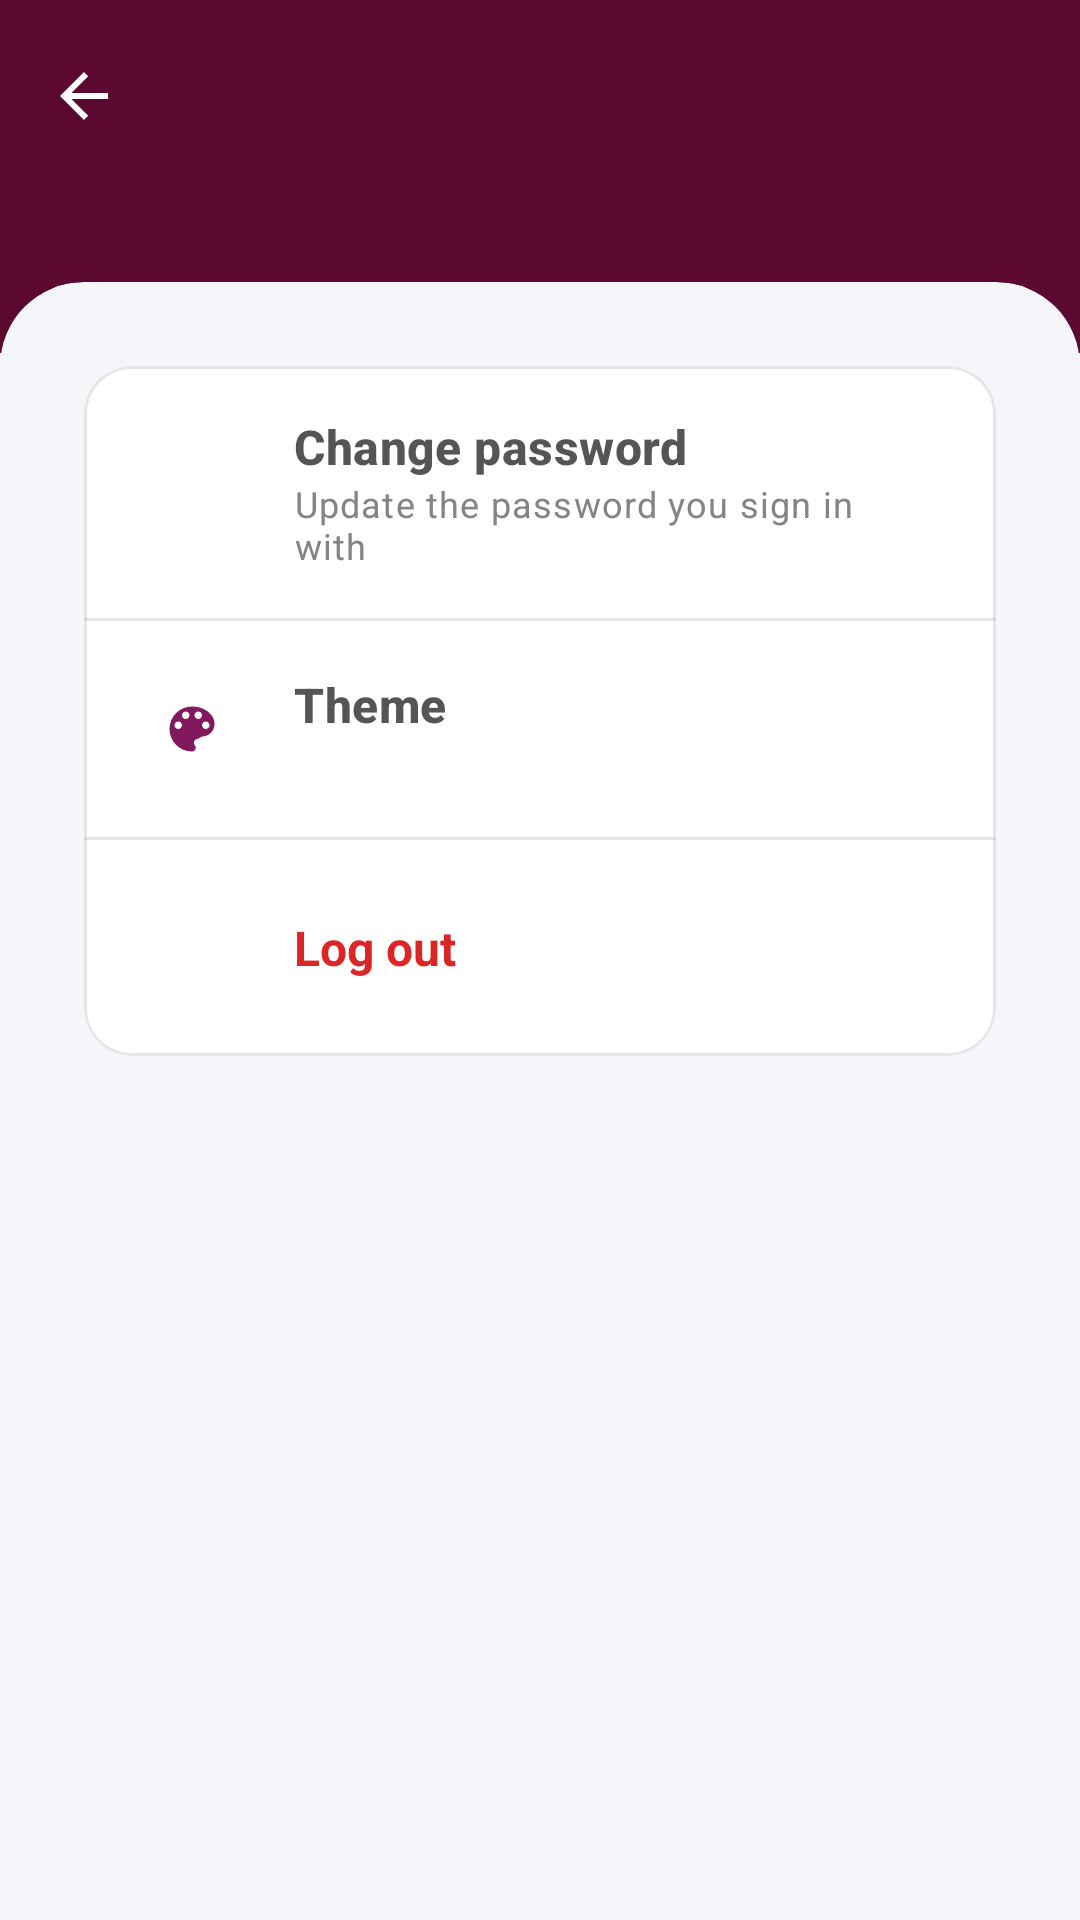

Icon click points for this 1080px×1920px phone screenshot, format (x,y):
palette: (192,729)
